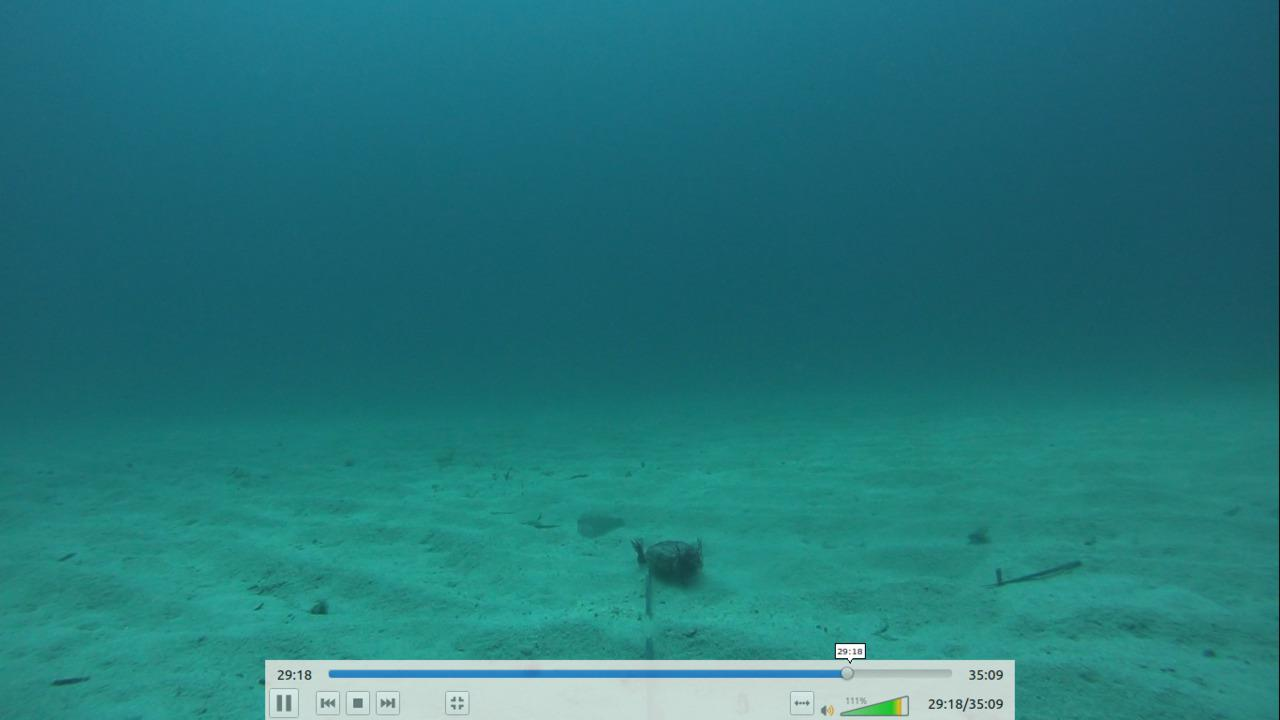raor: (567, 503, 633, 545)
